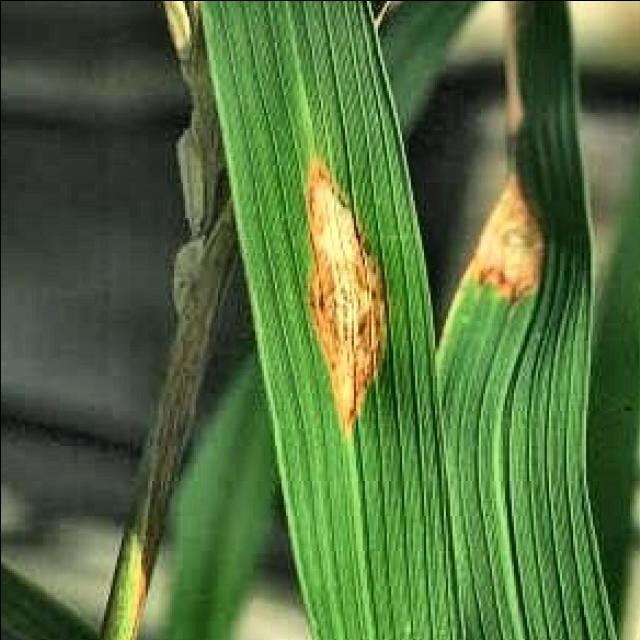Leaf_Blast: (285, 154, 410, 426), (464, 114, 556, 305)
